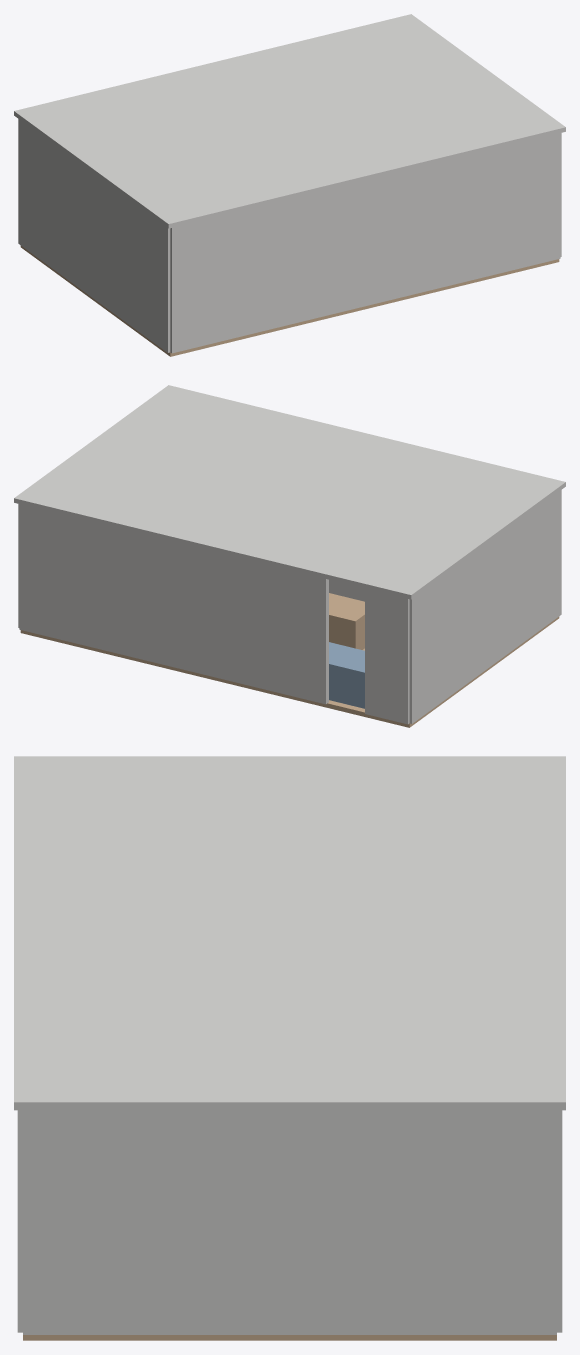
The model's file is unit-2bhk.glb.
The picture shows the model from 3 angles, top to bottom: view 1: azimuth 30°, elevation 25°; view 2: azimuth 150°, elevation 25°; view 3: azimuth 270°, elevation 25°; orthographic projection. The views are drawn at different scales.
Visible parts, largest first — view 1: Ceiling, Wall_S, Wall_W, Floor_Interior; view 2: Ceiling, Wall_N (×2), Wall_W, Furniture_Sofa, Floor_Interior, Furniture_DiningTable, Wall_LivingMaster; view 3: Ceiling, Wall_E, Floor_Interior, Wall_N, Wall_S.
Boxes of the visible parts, <box> form: Ceiling: <box>14,14,565,228</box>; Wall_S: <box>170,133,560,353</box>; Wall_W: <box>18,119,170,352</box>; Floor_Interior: <box>20,245,559,356</box>; Ceiling: <box>14,385,565,599</box>; Wall_N (×2): <box>19,504,409,724</box>; Wall_W: <box>409,490,561,723</box>; Furniture_Sofa: <box>329,642,364,708</box>; Floor_Interior: <box>20,616,559,727</box>; Furniture_DiningTable: <box>329,593,364,649</box>; Wall_LivingMaster: <box>329,579,364,601</box>; Ceiling: <box>14,756,565,1110</box>; Wall_E: <box>23,1110,556,1334</box>; Floor_Interior: <box>23,1335,556,1340</box>; Wall_N: <box>557,1110,562,1332</box>; Wall_S: <box>17,1110,22,1332</box>.
Size of the model in its own units: 9.2 by 3 by 6.2.
